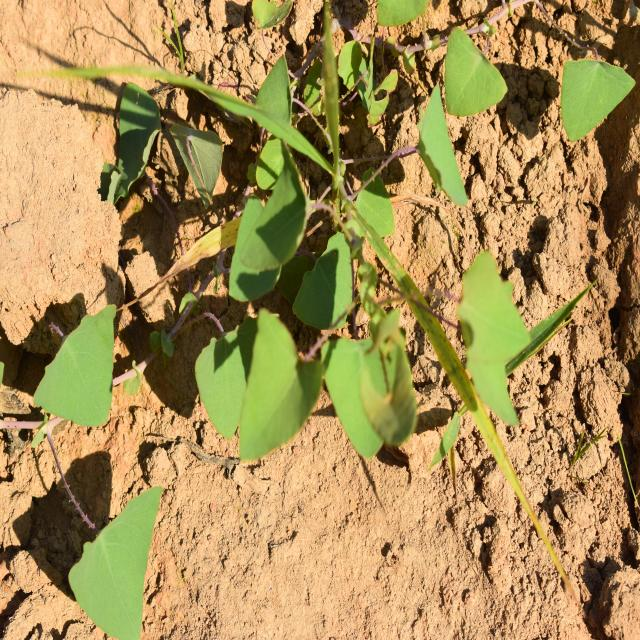Asiatic_Smartweed: (185, 153, 406, 459), (42, 478, 161, 640), (418, 20, 503, 228), (34, 304, 122, 426), (546, 39, 634, 147)
